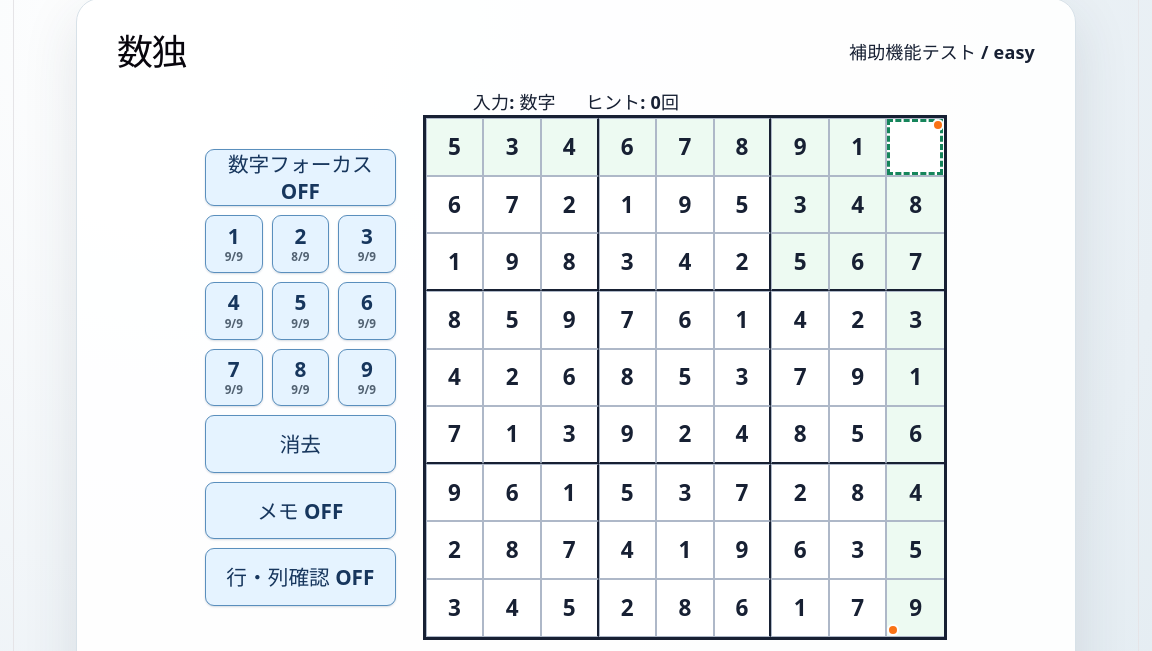
focuses the missing digit when selecting the last empty cell of a unit
This screenshot has width=1152, height=651.
Expected: the table named "数独盤面" is shown, [423, 115, 947, 640]
Expected: the cell named "1行9列" is shown, [886, 118, 944, 176]
Click the button "数字フォーカス OFF" at (300, 178), box [205, 149, 396, 206]
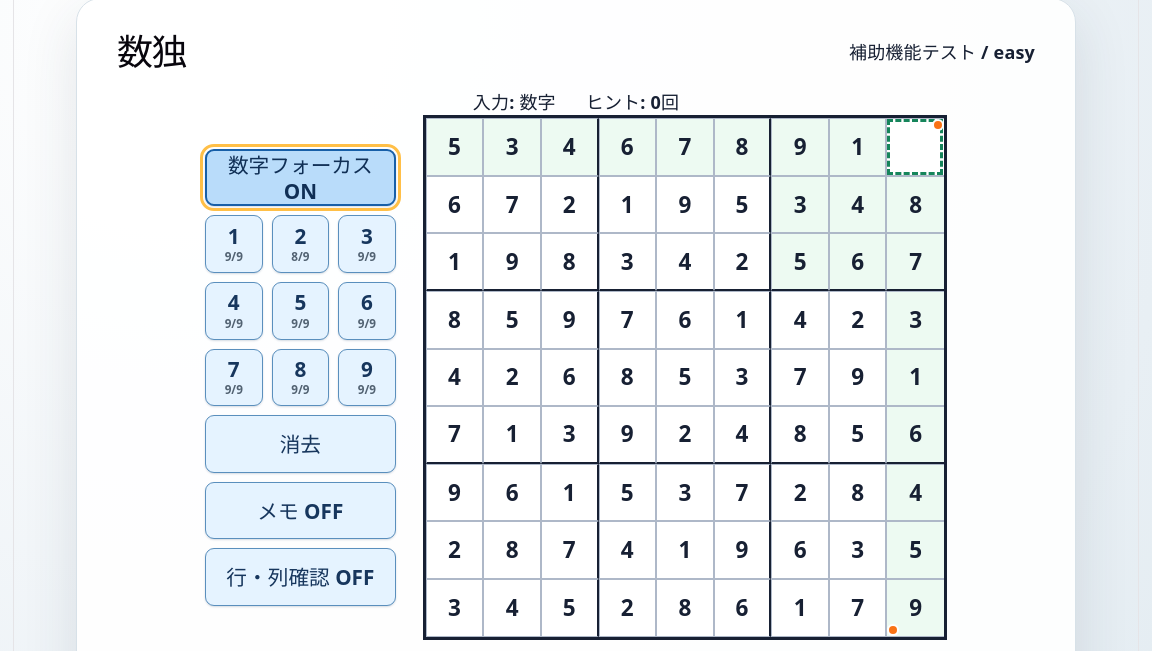
Click the cell named "1行9列" at (915, 147), box [886, 118, 944, 176]
(page scrolled)
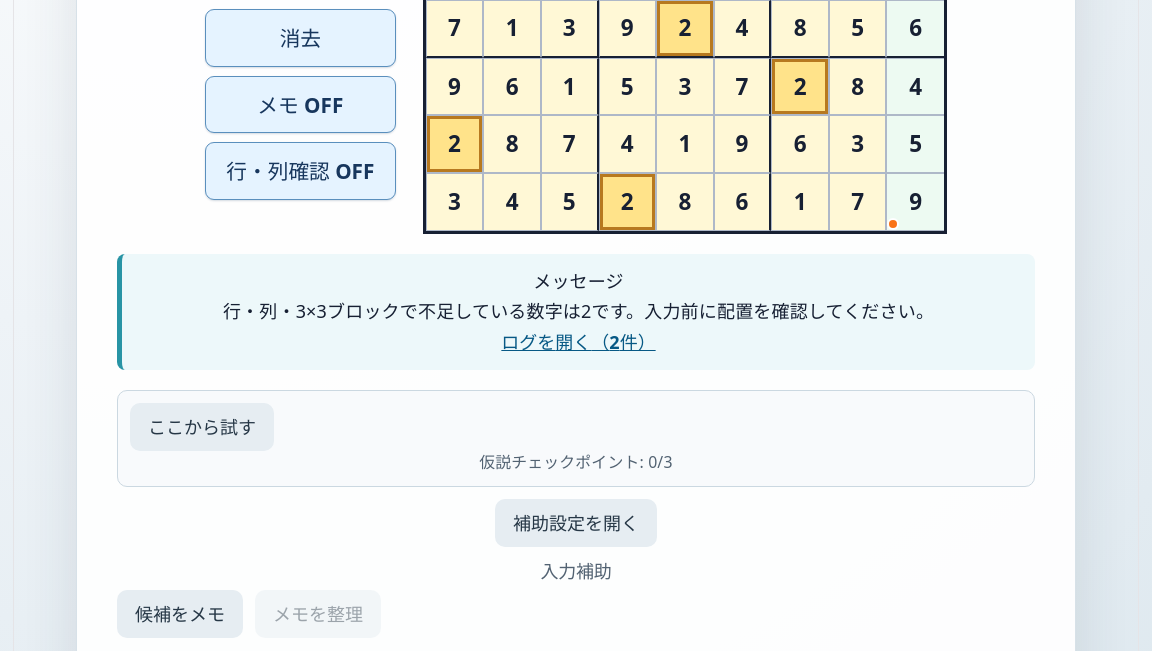
Expected: the text "不足している数字は2" is shown, [223, 299, 934, 323]
